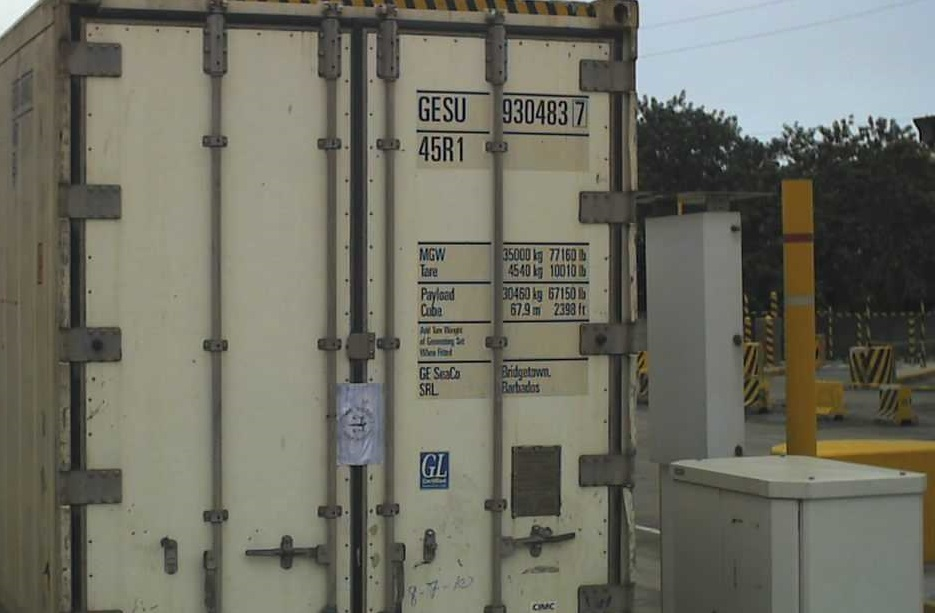container_door: (58, 1, 643, 613)
